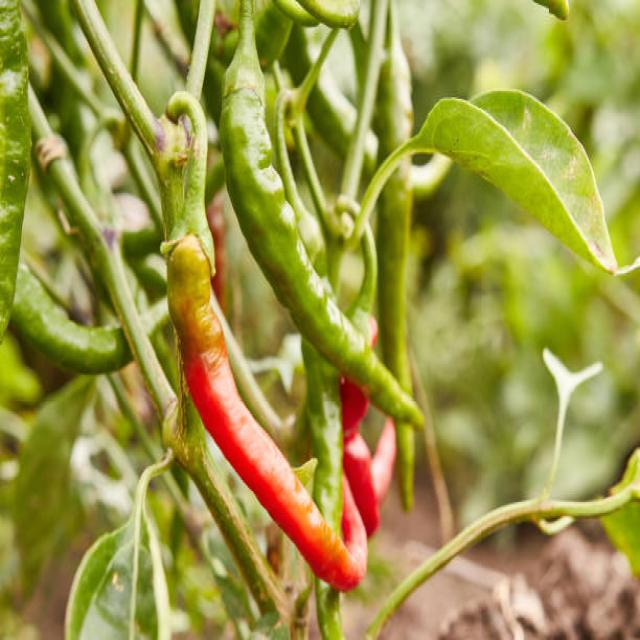Half-Ripe: (169, 235, 365, 590)
Unripe: (220, 0, 420, 422), (1, 0, 30, 344)
